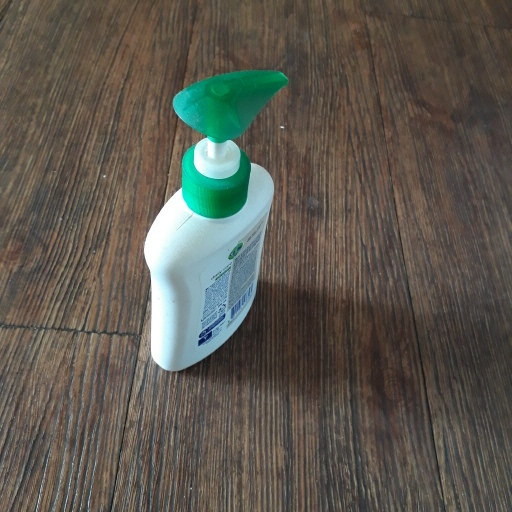Plastic_3: (137, 70, 292, 372)
